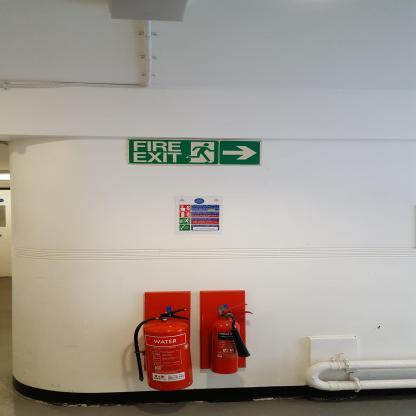Fire Extinguisher: (129, 290, 198, 404), (206, 297, 252, 382)
